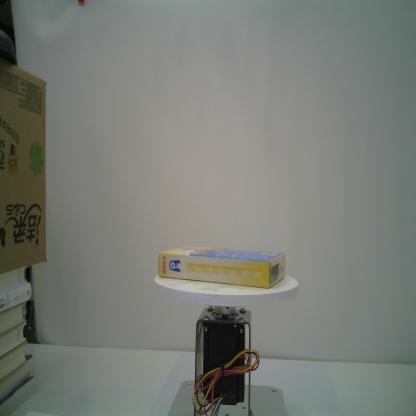Dessert: (158, 240, 287, 290)
